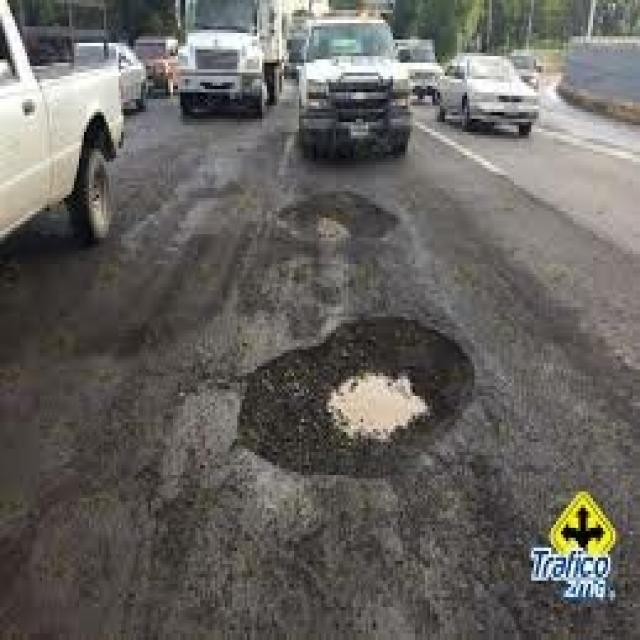Pothole: (213, 165, 509, 495)
